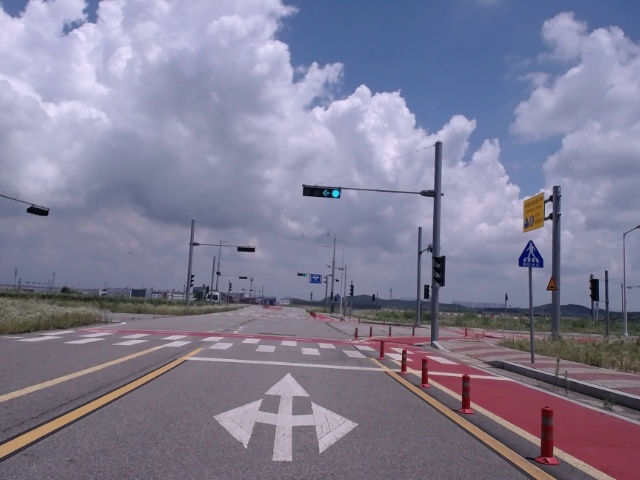all_green_4: (302, 183, 340, 199)
